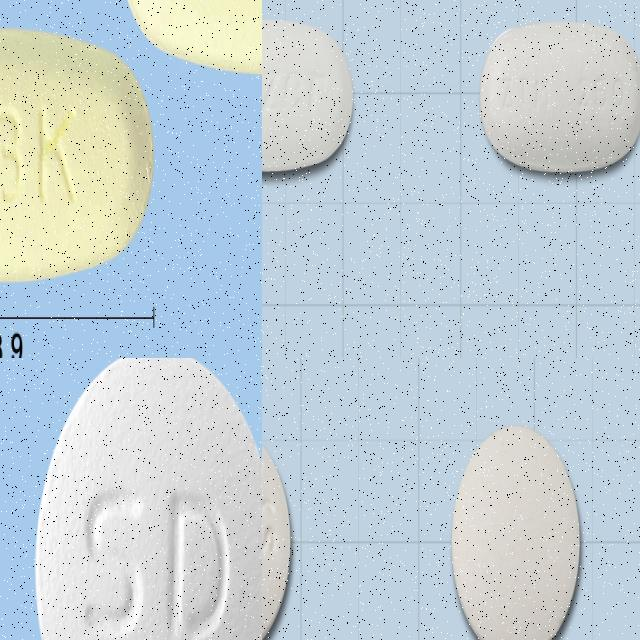Korus Ascorbic Acid: (451, 424, 581, 640), (262, 423, 293, 640)
Lathrocin-500mg: (0, 24, 151, 285)
Youngil Clarithromycin Tab: (33, 358, 262, 640)
Zyvox Tab: (481, 24, 640, 169), (262, 17, 354, 171)
